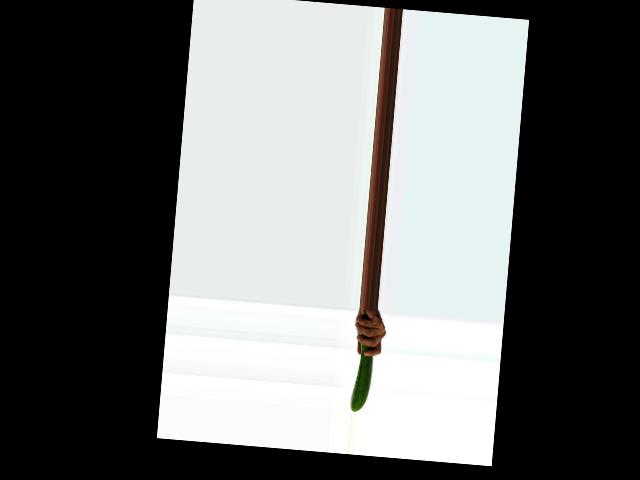cucumber: (349, 310, 377, 413)
